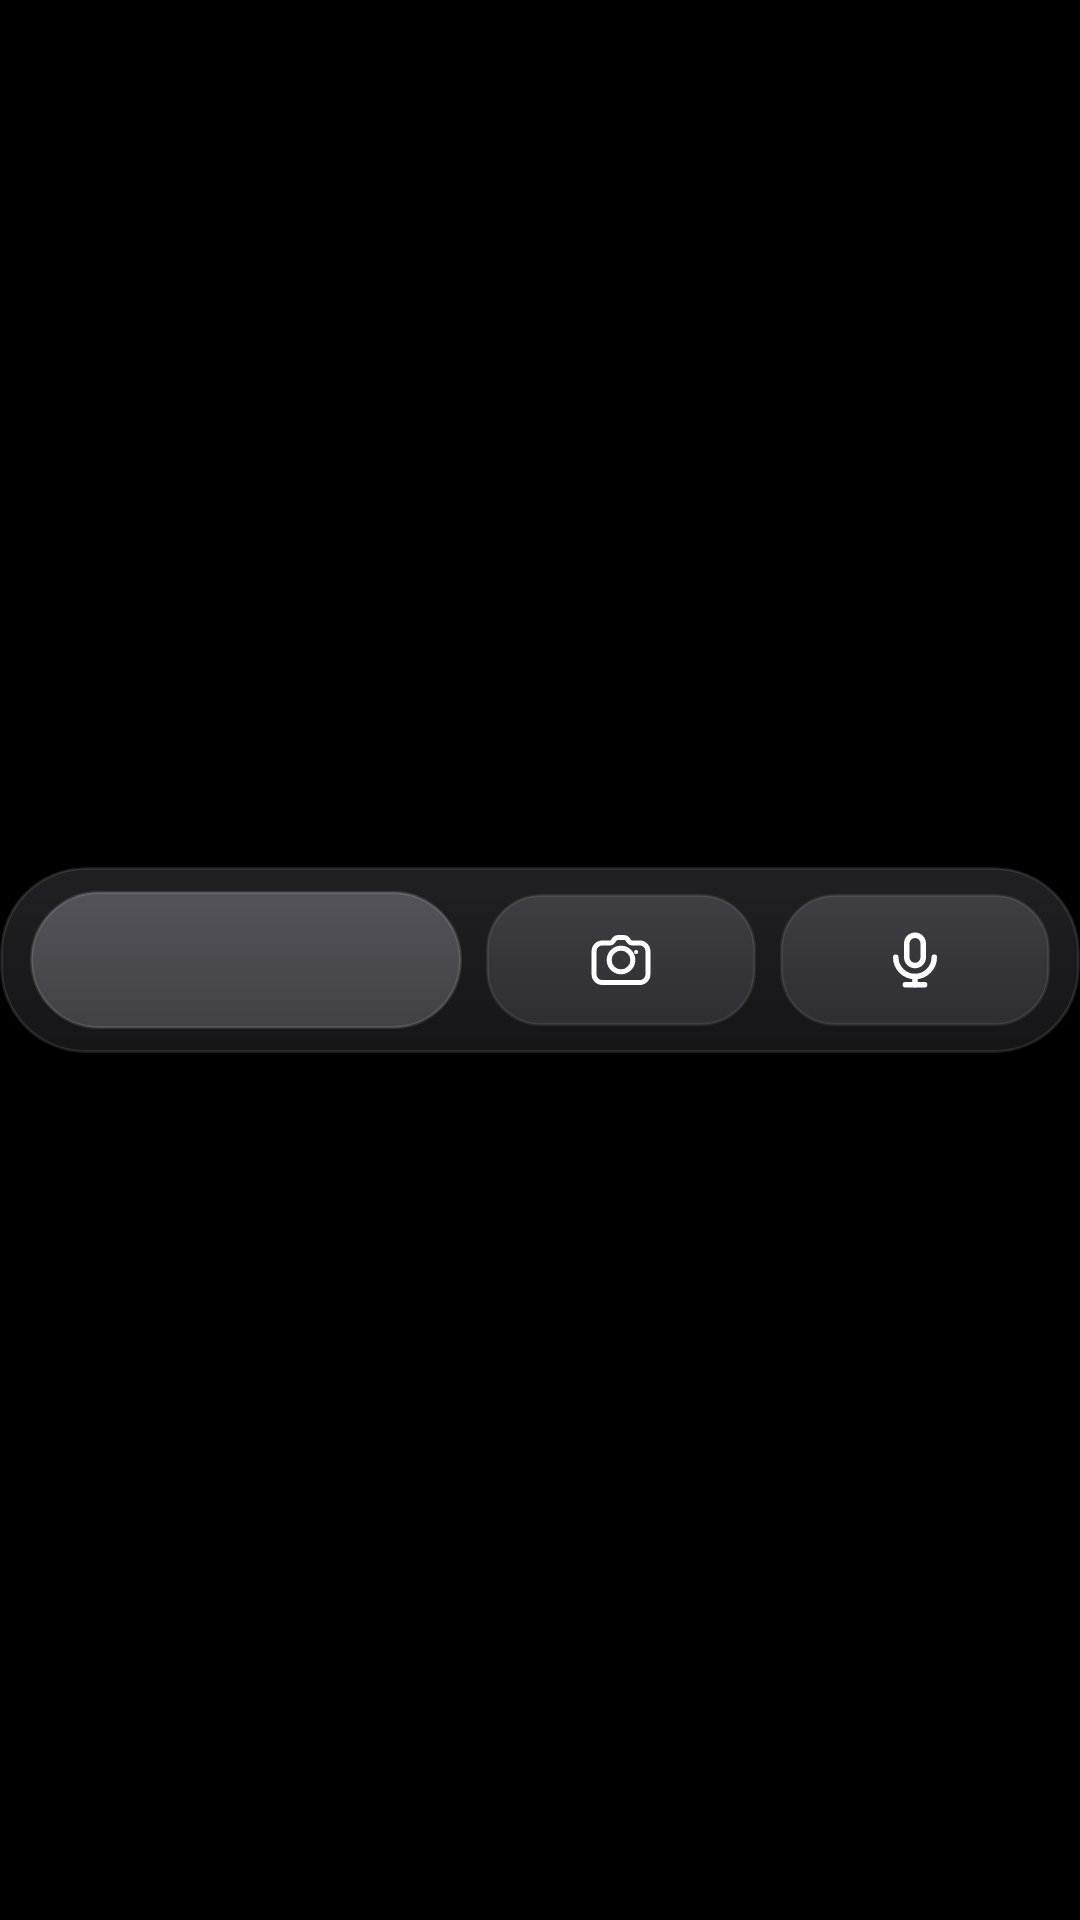

Named icons in this screenshot (1080x1920) and their bounding boxes, (x1, y1, x2, y2):
Camera: (487, 895, 755, 1024)
Microphone: (781, 895, 1049, 1024)
